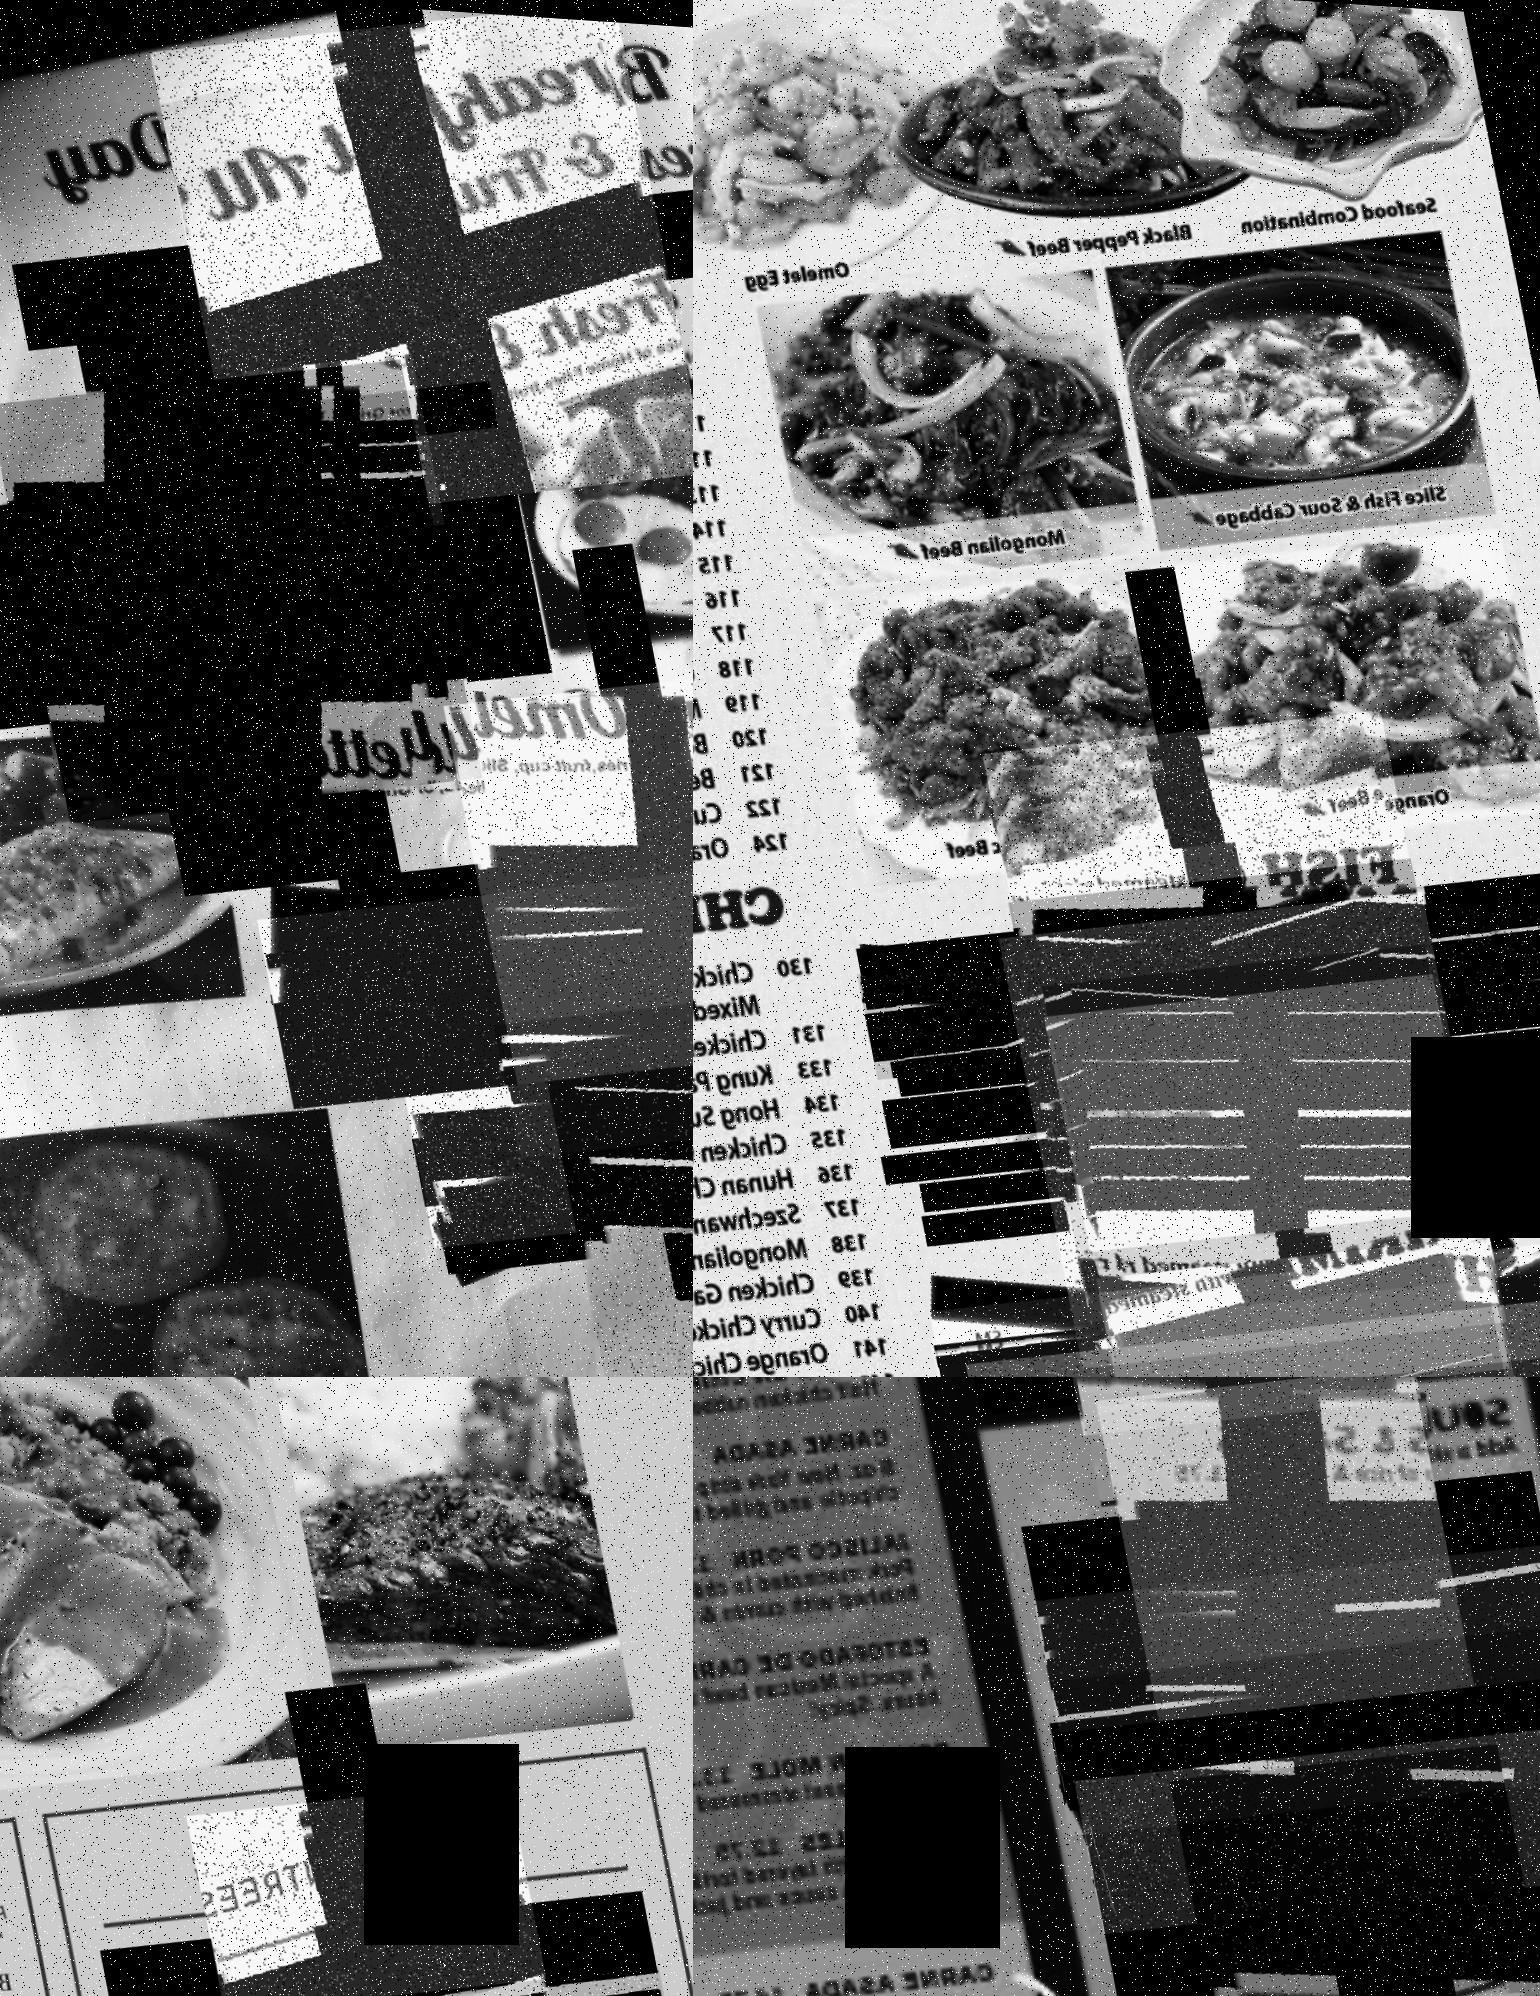Menu-Items: (147, 0, 692, 540), (992, 852, 1501, 1376), (0, 327, 480, 839), (1003, 820, 1485, 1320), (977, 673, 1454, 1168), (1035, 907, 1495, 1376), (1016, 788, 1467, 1254), (1037, 937, 1504, 1376), (849, 836, 1540, 1110), (249, 781, 692, 1139), (1032, 1582, 1540, 1854), (1090, 1376, 1469, 1727), (1026, 1499, 1540, 1749), (1066, 1681, 1540, 1951), (920, 1174, 1540, 1376), (438, 629, 692, 1092), (1161, 1710, 1540, 1996), (920, 1202, 1540, 1376), (180, 1745, 566, 1996), (1082, 1173, 1540, 1376), (396, 974, 692, 1271), (956, 1233, 1540, 1376), (1089, 1197, 1540, 1376), (532, 969, 692, 1376), (692, 1766, 996, 1967), (1034, 1376, 1428, 1529), (487, 920, 692, 1174), (692, 1595, 950, 1782), (92, 1917, 679, 1996), (692, 1689, 966, 1855), (692, 1491, 929, 1677), (239, 333, 443, 543), (692, 1388, 911, 1569), (173, 353, 497, 471), (692, 1220, 883, 1373), (692, 1181, 875, 1341), (692, 1909, 1026, 1996), (692, 1148, 865, 1304), (692, 1045, 857, 1205), (692, 1118, 861, 1270), (692, 912, 831, 1095), (692, 1087, 854, 1237), (692, 1257, 886, 1376), (692, 1376, 890, 1491), (692, 979, 840, 1131), (692, 1022, 835, 1165), (692, 1291, 891, 1376)
